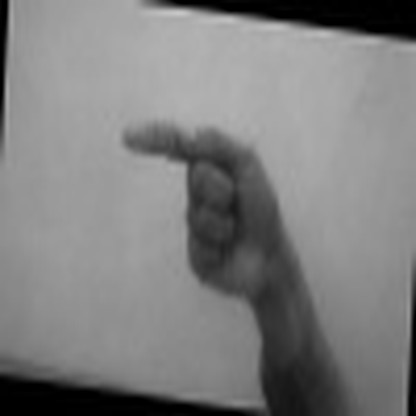g: (118, 108, 283, 294)
